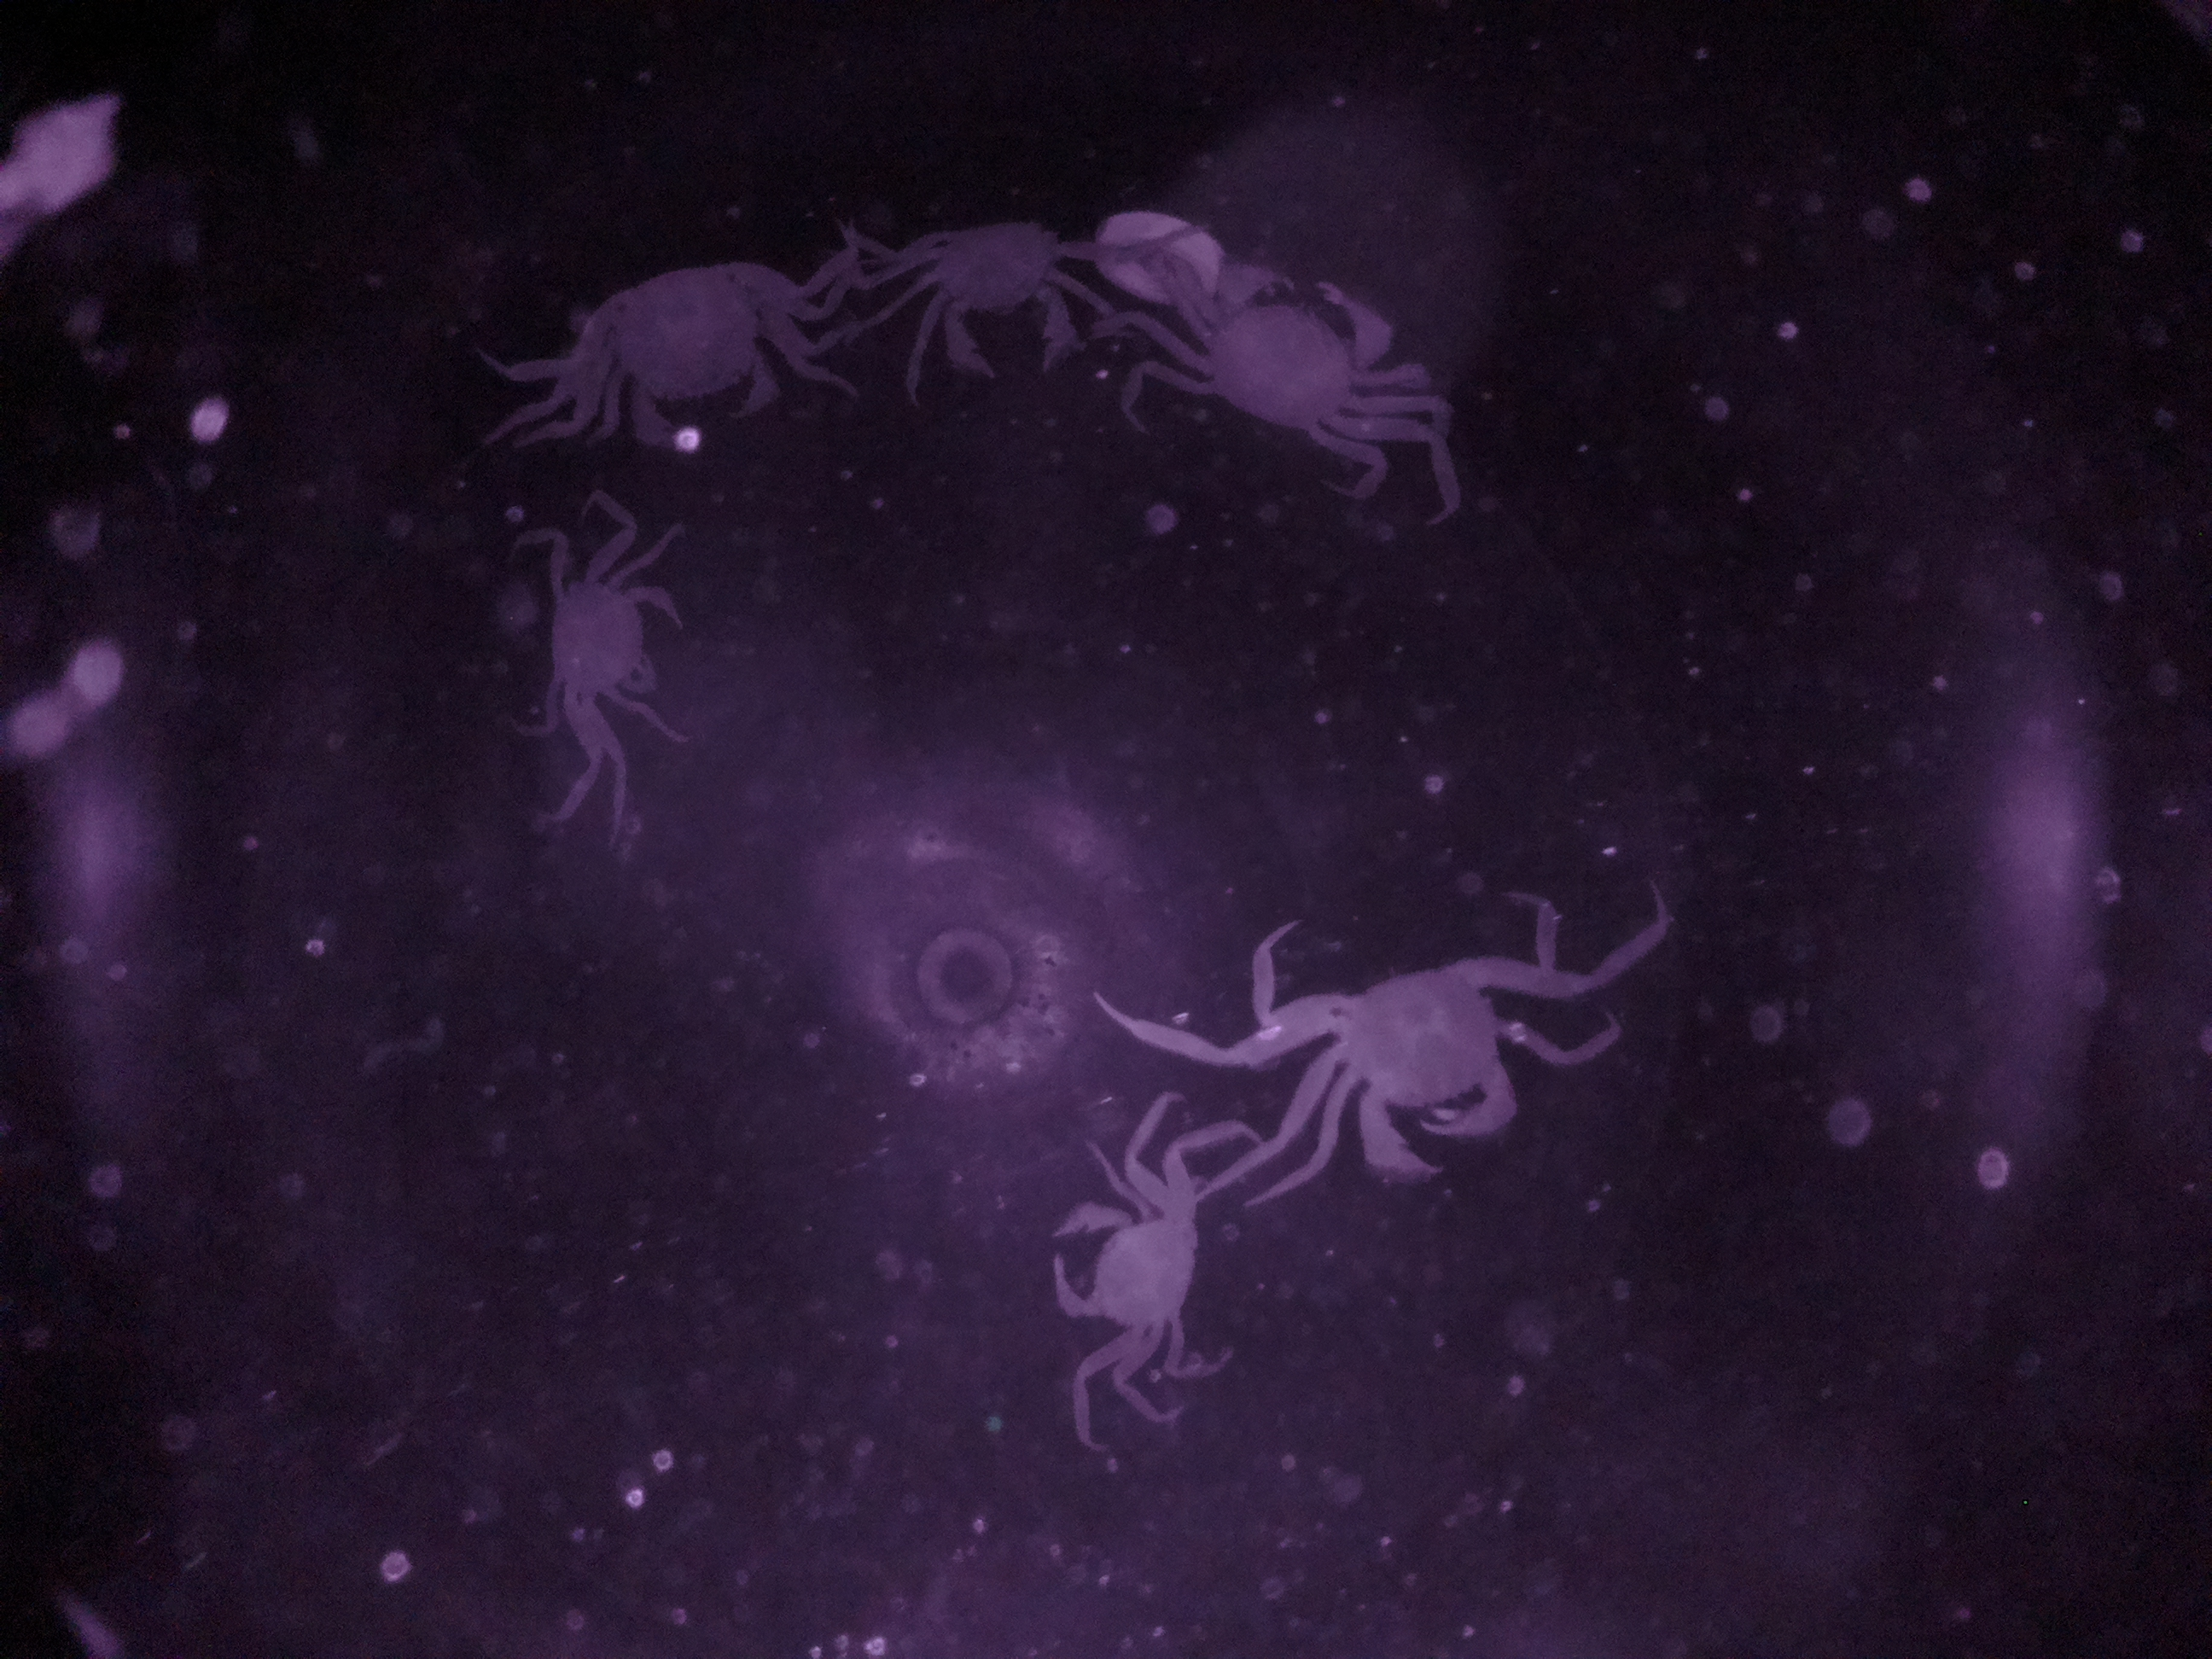Crab: (1226, 924, 1588, 1192), (1155, 246, 1435, 458), (881, 199, 1113, 387), (1035, 1155, 1221, 1382)
